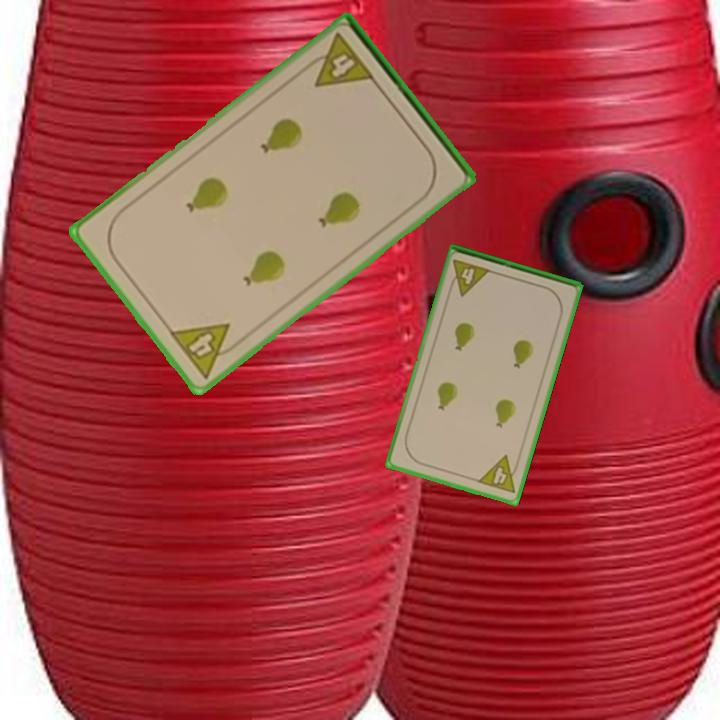4p: (165, 319, 245, 382), (300, 30, 378, 91), (474, 452, 523, 497), (445, 256, 493, 299)
